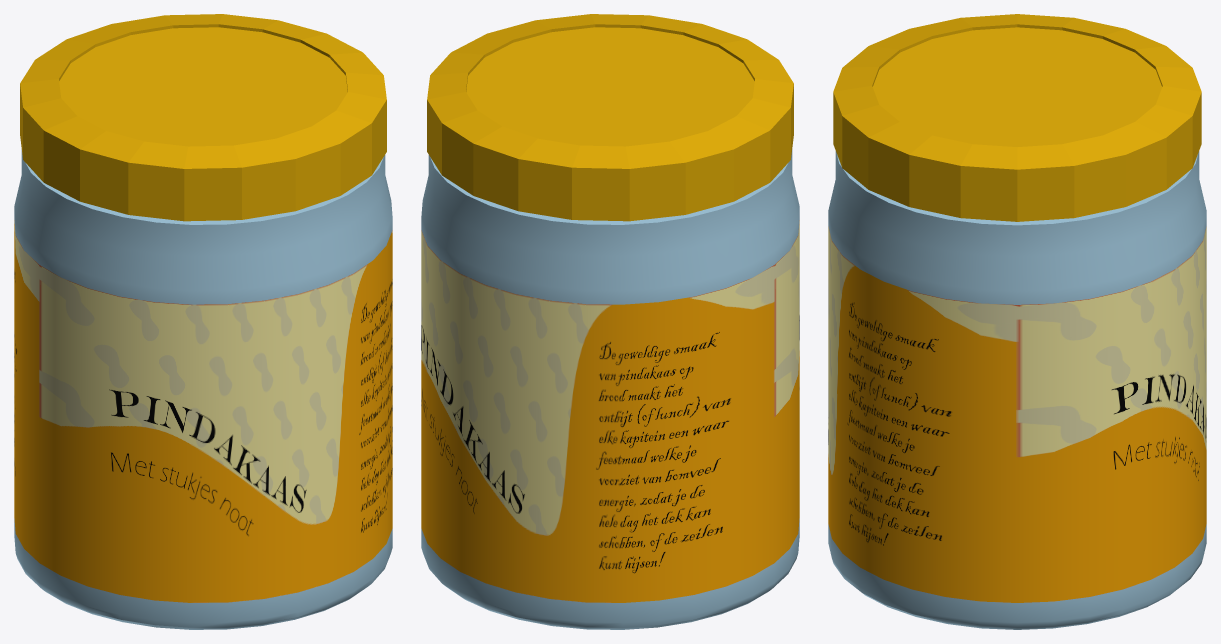
Rendered from jar.fbx.
3 views of the same model, side by side, from view 1: azimuth 30°, elevation 25°; view 2: azimuth 150°, elevation 25°; view 3: azimuth 270°, elevation 25° (orthographic).
Parts seen in each view (by area): view 1: Cylinder, Cylinder.001; view 2: Cylinder, Cylinder.001; view 3: Cylinder, Cylinder.001.
Part boxes in pixels (box(x1,y1,x2,y2)): Cylinder: box(14, 150, 392, 629); Cylinder.001: box(20, 14, 386, 221); Cylinder: box(421, 150, 799, 629); Cylinder.001: box(427, 14, 793, 221); Cylinder: box(828, 151, 1206, 629); Cylinder.001: box(833, 14, 1201, 221).
Size of the model in its own units: 200 by 273 by 200.
